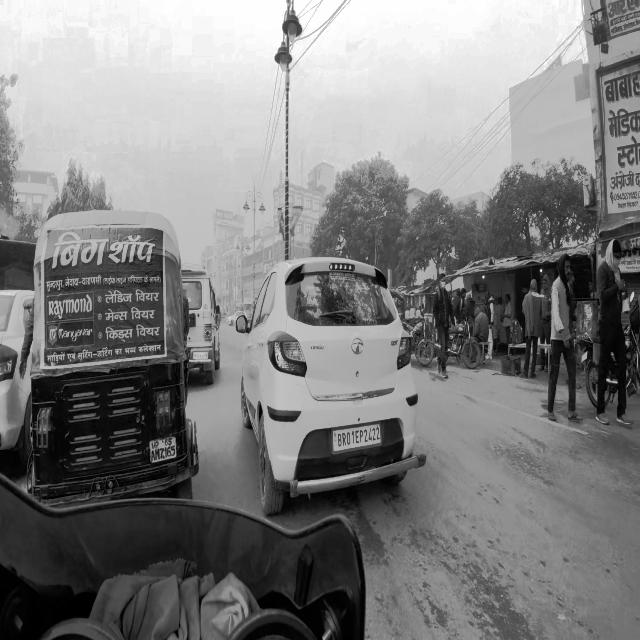Auto-Rickshaw: (25, 195, 216, 520)
Car: (241, 241, 431, 508), (181, 259, 225, 385)
